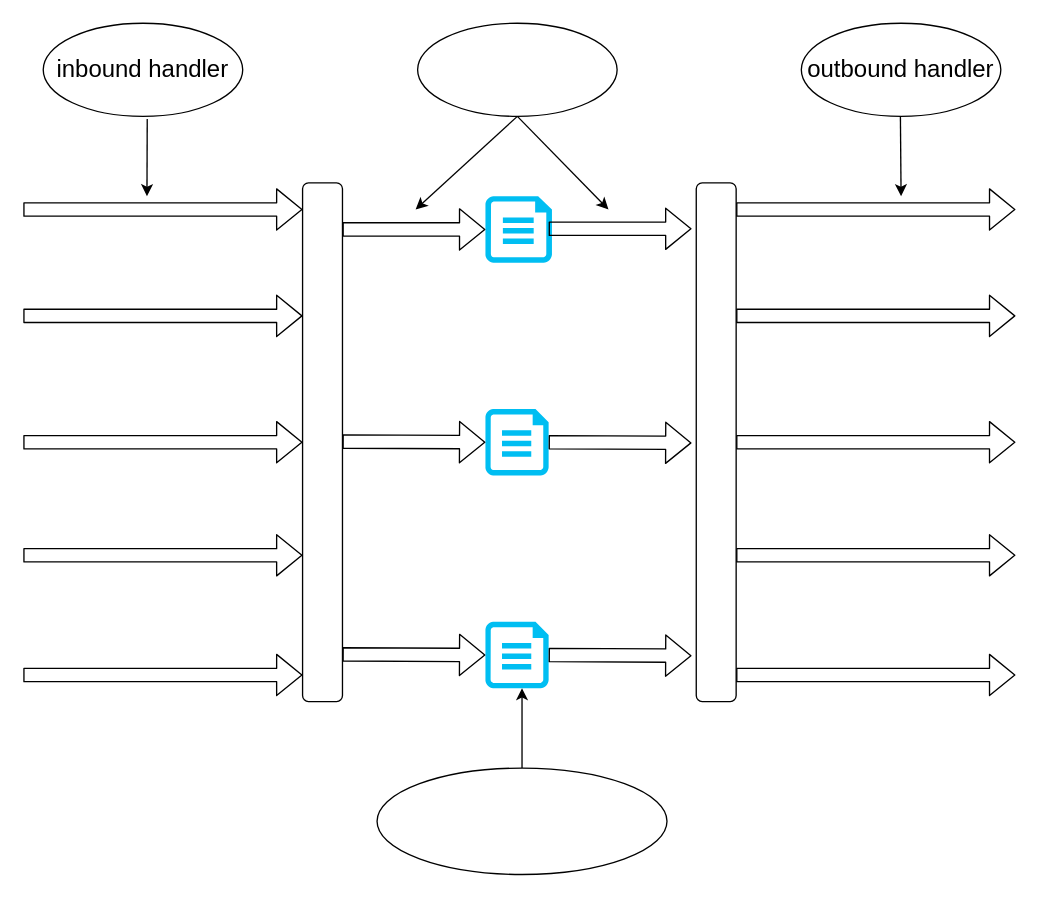
This 1037x898 diagram has some shape labels left out. The shapes that lost their labels are listed below. From the top down, each one's centre as x and y in pixels, then its label:
At point (516, 69): "blocking queue".
At point (521, 820): "file (mutual exclusion algorithm)".
